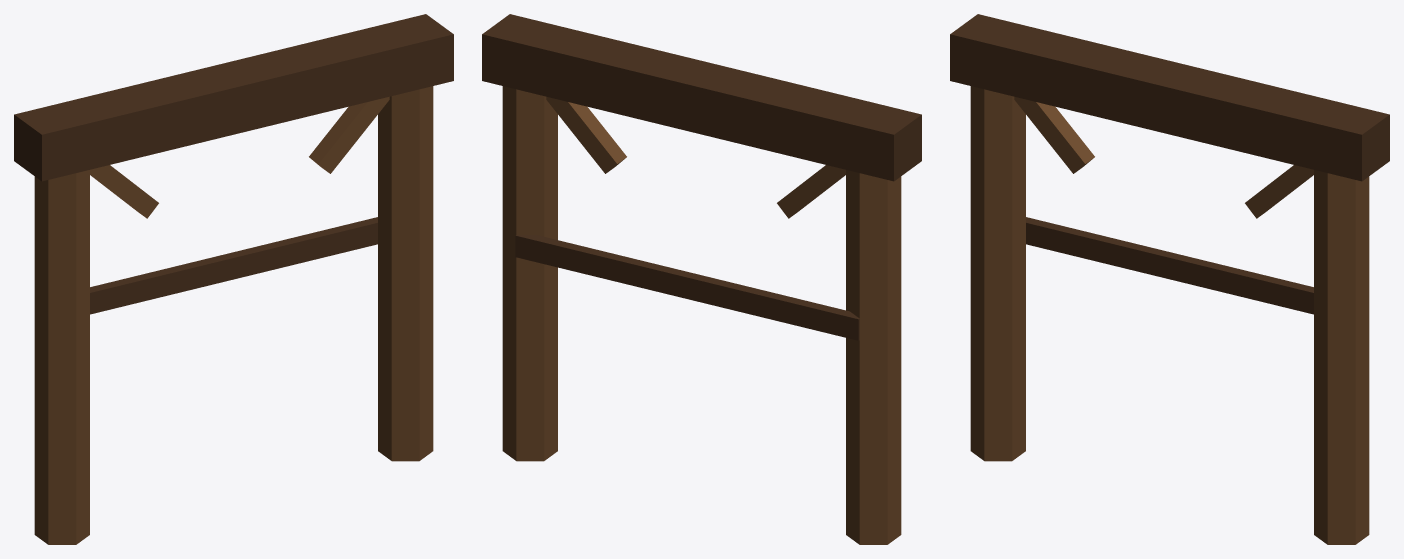
Rendered from soegol_timber_frame.glb.
3 views of the same model, side by side, from view 1: azimuth 30°, elevation 25°; view 2: azimuth 150°, elevation 25°; view 3: azimuth 330°, elevation 25° (orthographic).
Visible parts, largest first — view 1: soegol_timber_frame; view 2: soegol_timber_frame; view 3: soegol_timber_frame.
Boxes of the visible parts, x1=… form: soegol_timber_frame: x1=14, y1=14, x2=453, y2=544; soegol_timber_frame: x1=482, y1=14, x2=921, y2=544; soegol_timber_frame: x1=950, y1=14, x2=1389, y2=544.
Size of the model in its own units: 2.4 by 2.33 by 0.29.
